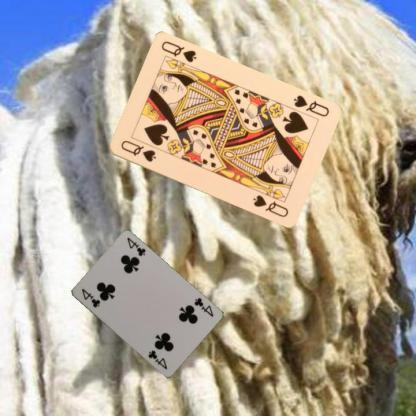4c: (192, 295, 214, 318), (79, 286, 101, 308)
Qs: (290, 92, 331, 118), (118, 138, 157, 164)
